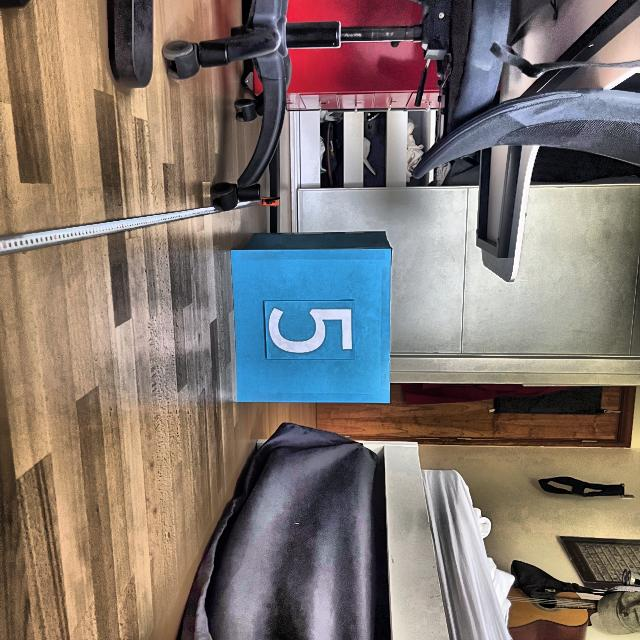blue box: (230, 225, 398, 406)
five: (267, 303, 357, 356)
